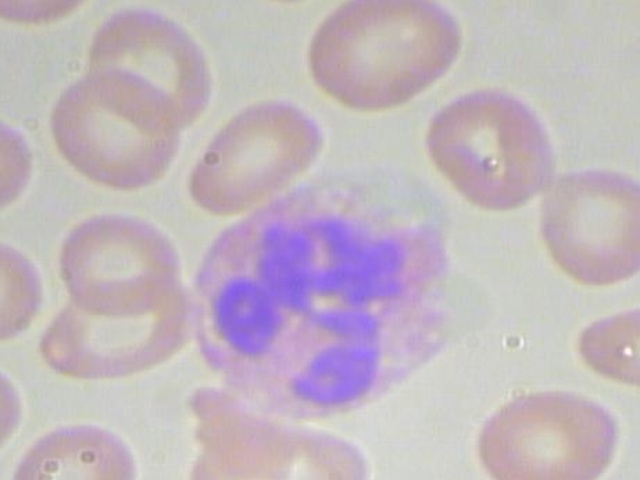RBC: (297, 0, 471, 117), (40, 62, 191, 192), (178, 88, 328, 218), (76, 0, 227, 128), (419, 78, 560, 213), (511, 160, 640, 297), (468, 384, 629, 480), (58, 207, 192, 320), (0, 413, 137, 480), (558, 297, 640, 394), (0, 231, 57, 346), (0, 108, 57, 222)
WBC: (169, 162, 479, 421)
